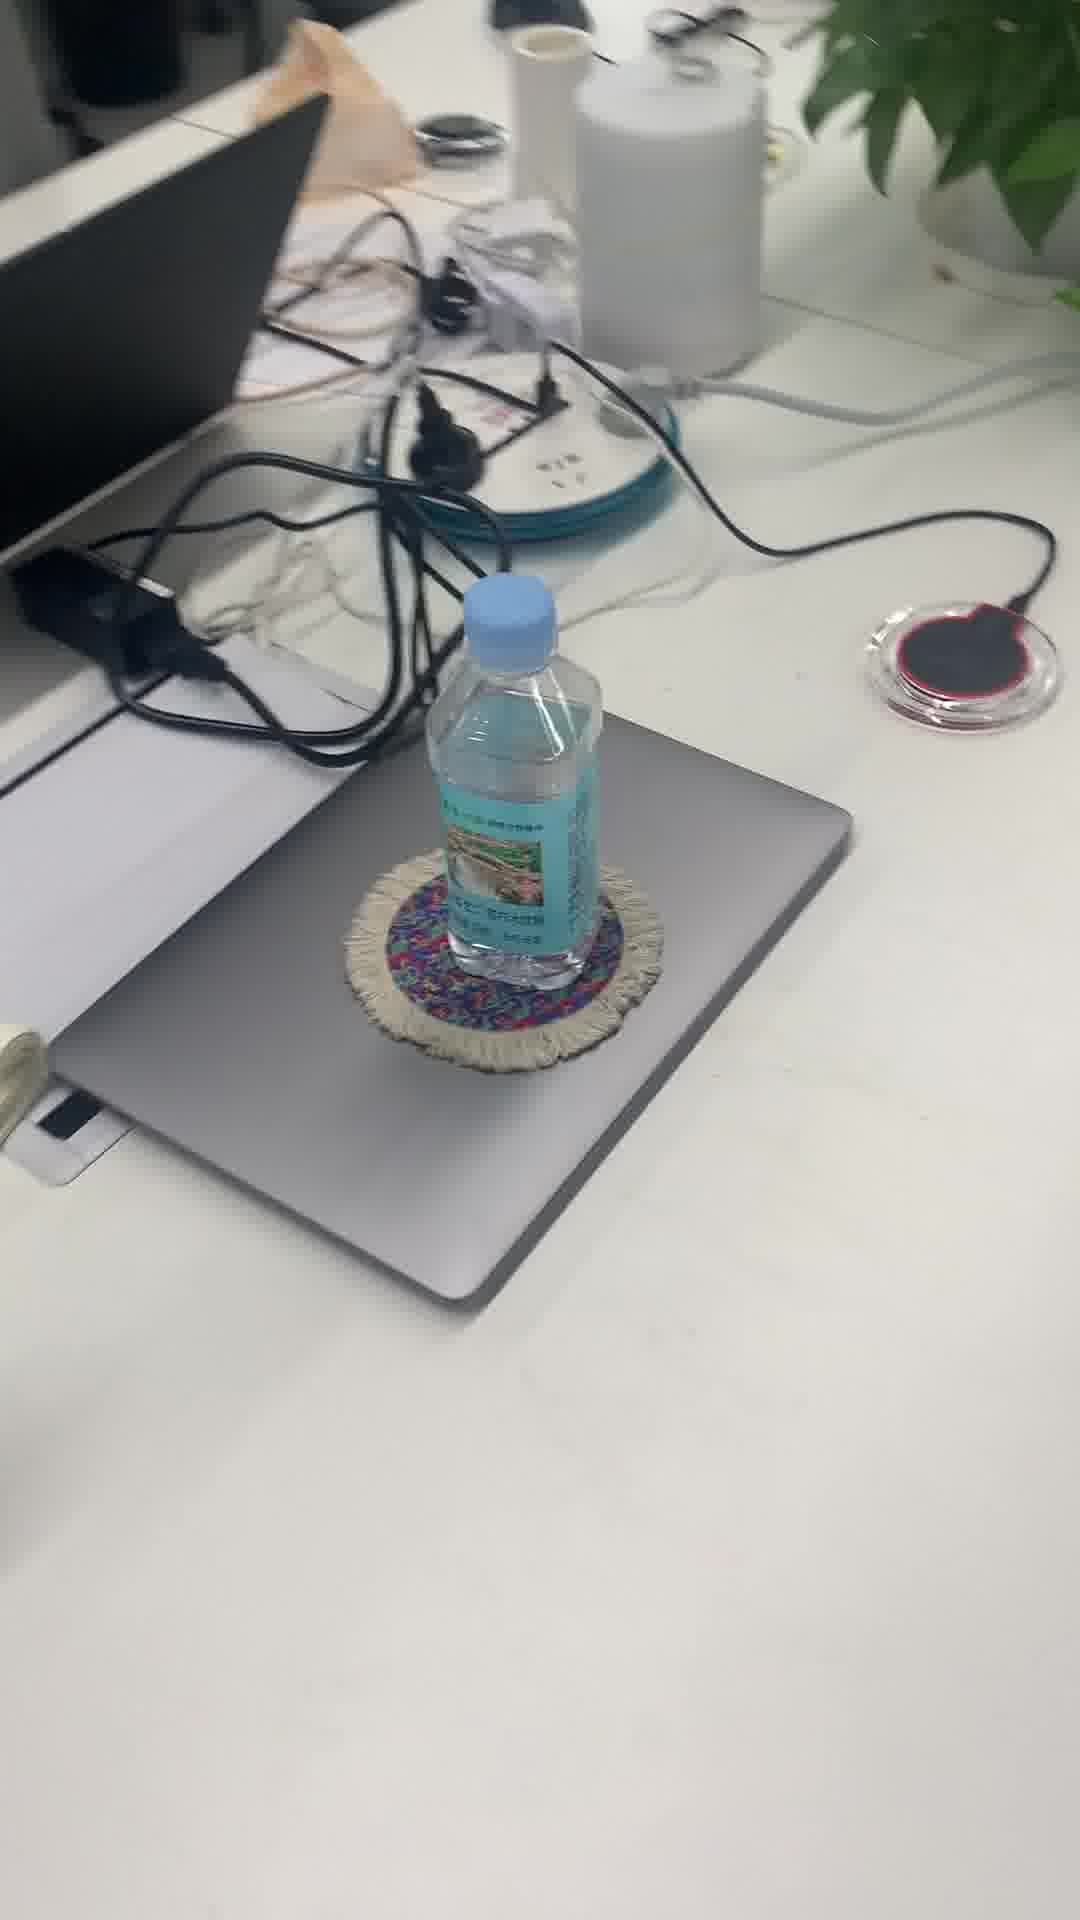水瓶: (425, 572, 615, 998)
